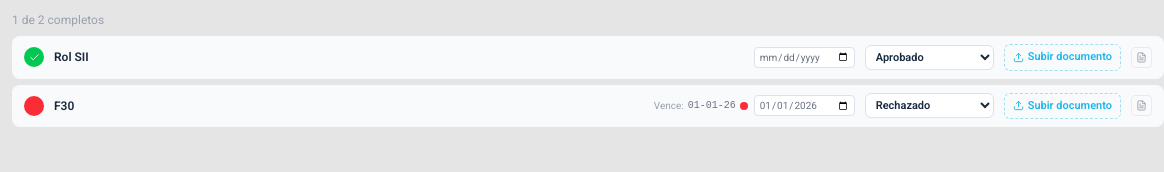
Test: TransporterDocumentsPanel › renders document version history with status + replaced date
The image size is (1164, 172).
Click the button titled "Ver historial de versiones" in the row of "Rol SII": (1142,57) [1131,47,1152,68]
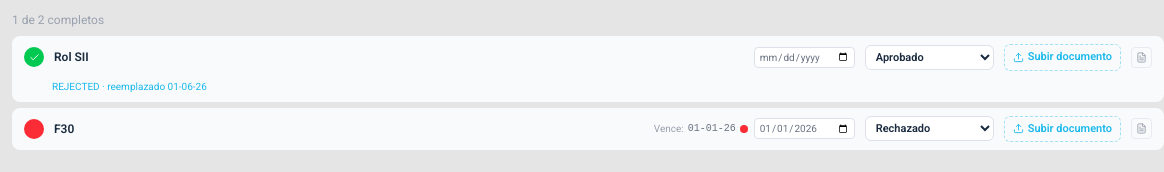
Expected: the text "REJECTED · reemplazado 01-06-26" is shown, [52,78,207,94]
